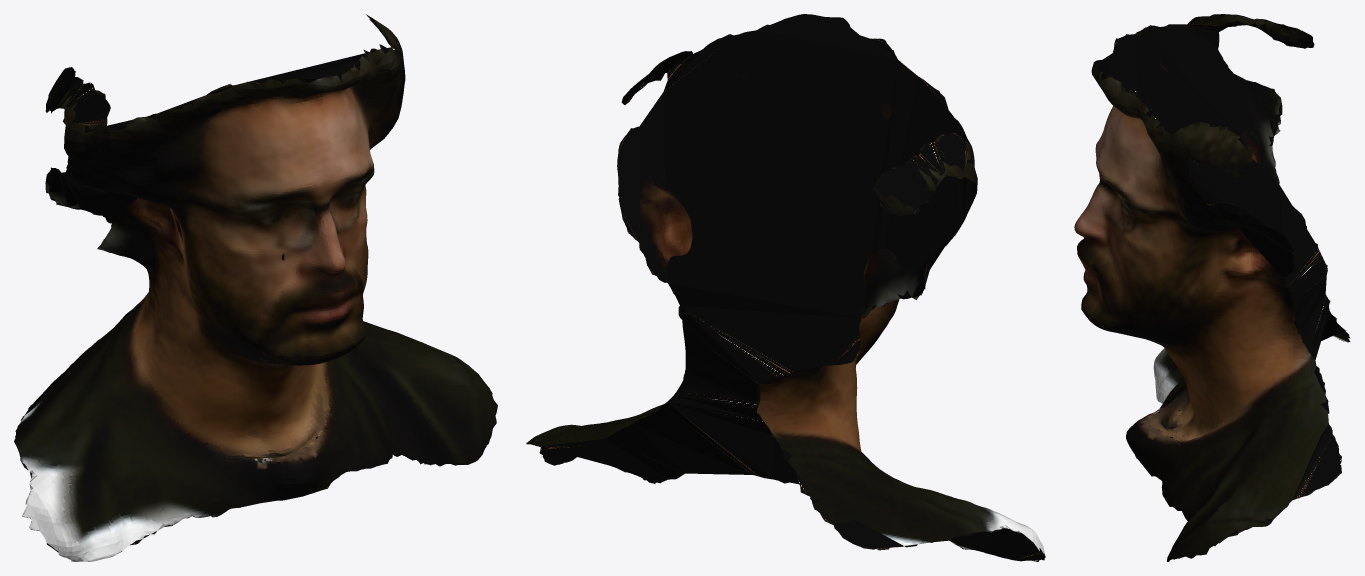
The model's file is marcus2.glb.
The picture shows the model from 3 angles, left to right: view 1: azimuth 30°, elevation 25°; view 2: azimuth 150°, elevation 25°; view 3: azimuth 270°, elevation 25°; orthographic projection. The views are drawn at different scales.
Size of the model in its own units: 0.4138 by 0.382 by 0.2268.
Materials: 1 (1 with a texture image).
